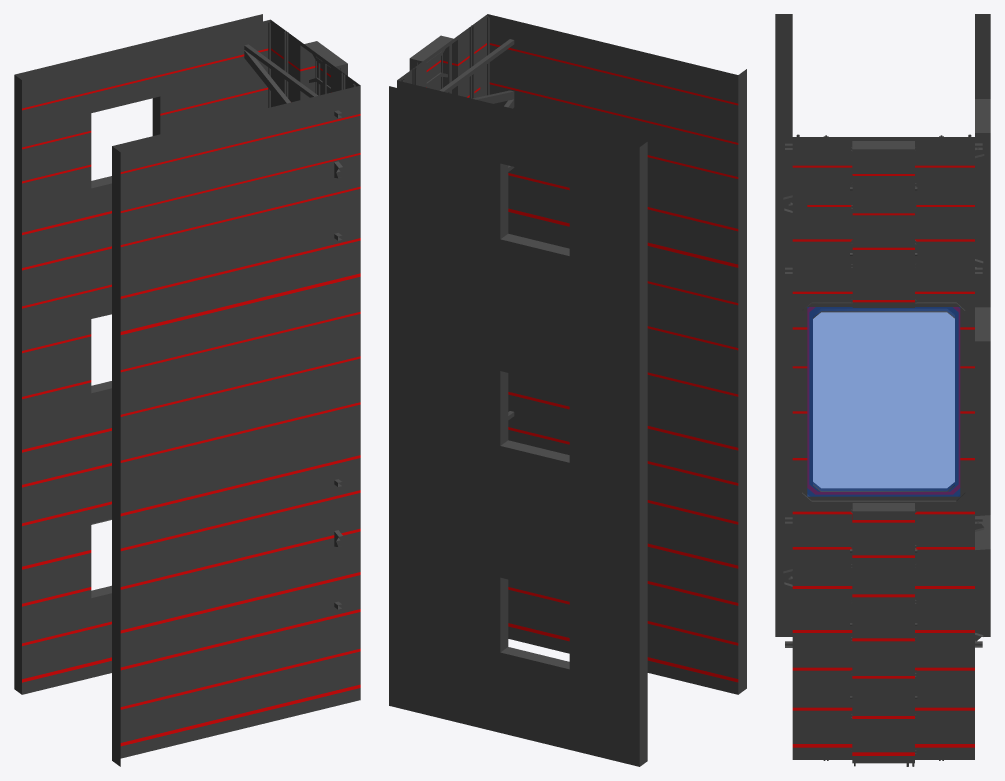
File: elevatorwalls_3ds.fbx
3 views of the same model, side by side, from view 1: azimuth 30°, elevation 25°; view 2: azimuth 150°, elevation 25°; view 3: azimuth 270°, elevation 25° (orthographic).
Parts seen in each view (by area): view 1: elevatorwalls; view 2: elevatorwalls; view 3: elevatorwalls.
Boxes of the visible parts, x1,y1,x2,y2 form: elevatorwalls: (14,14,360,766); elevatorwalls: (389,14,746,766); elevatorwalls: (775,14,990,766).
Bounding box in the file's own units: 9.11 × 20.22 × 6.31.
